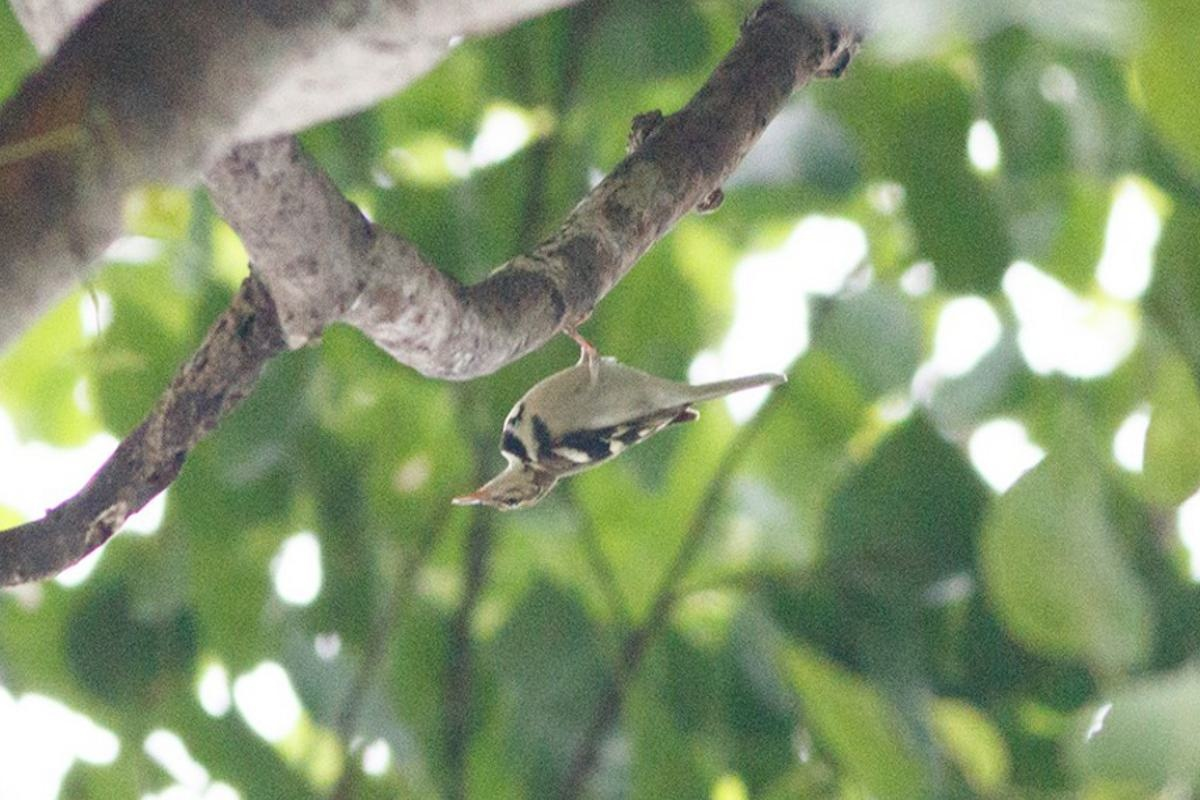wagtail: (449, 314, 785, 528)
